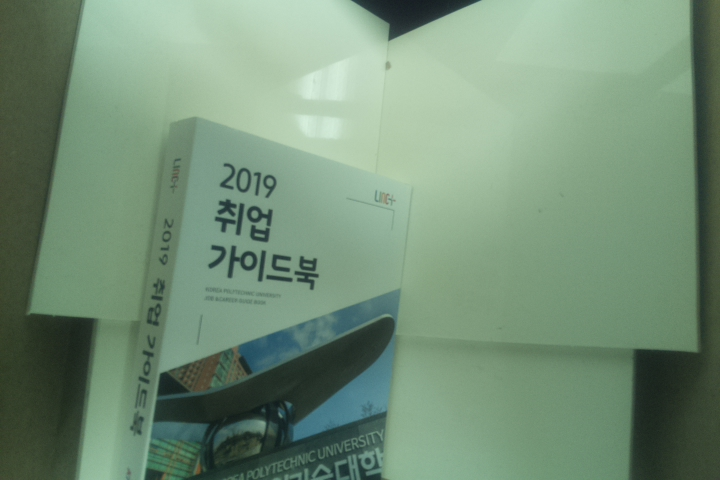book: (109, 116, 417, 480)
